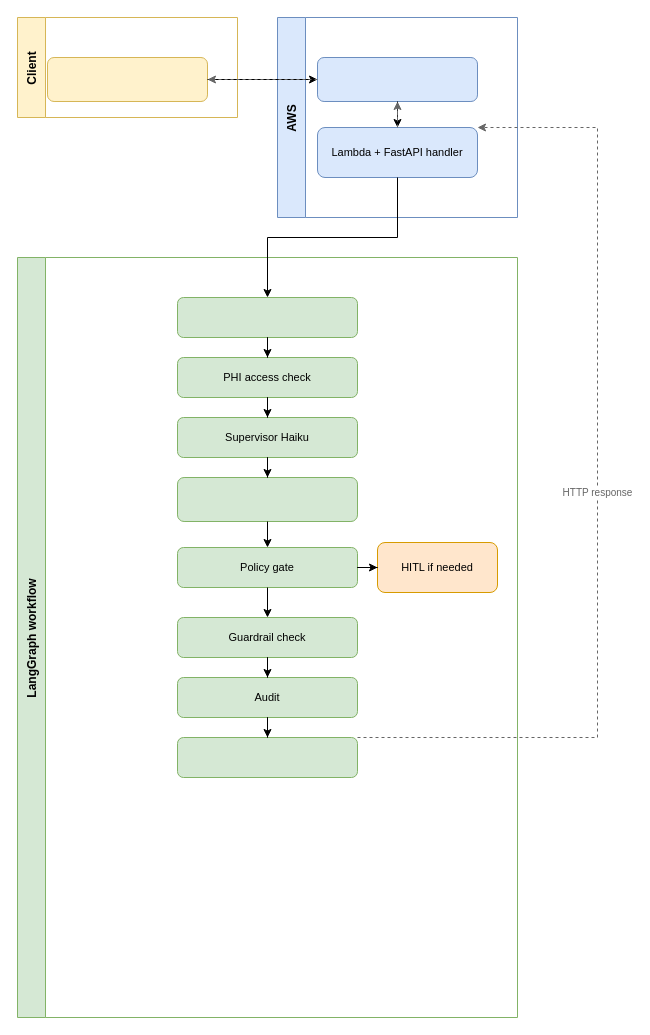
The diagram is 650 pixels wide and 1035 high, and some of its shapes have lost their labels. The shapes that lost their labels are listed below. From the top down, each one's centre as x and y in pixels, then its label:
(x=127, y=79): Caller / script / Postman
(x=397, y=79): API Gateway
(x=267, y=317): PII scrub
(x=267, y=499): Specialist agents (Sonnet or Haiku)
(x=267, y=757): Response node
